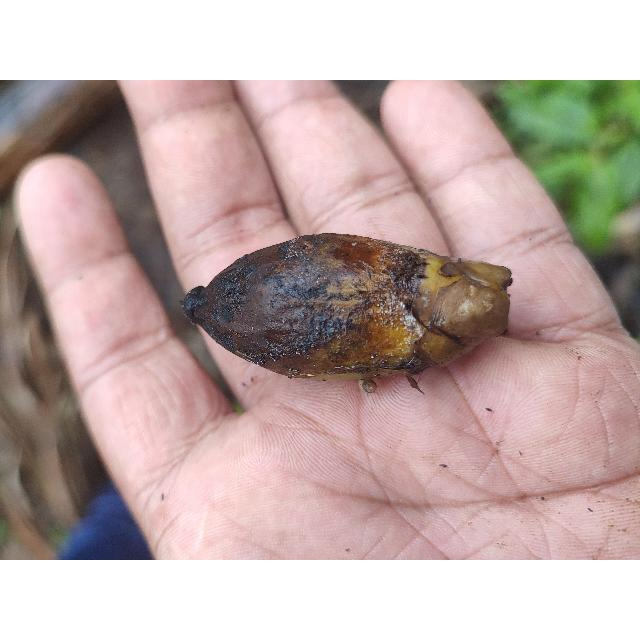damaged: (178, 234, 514, 390)
